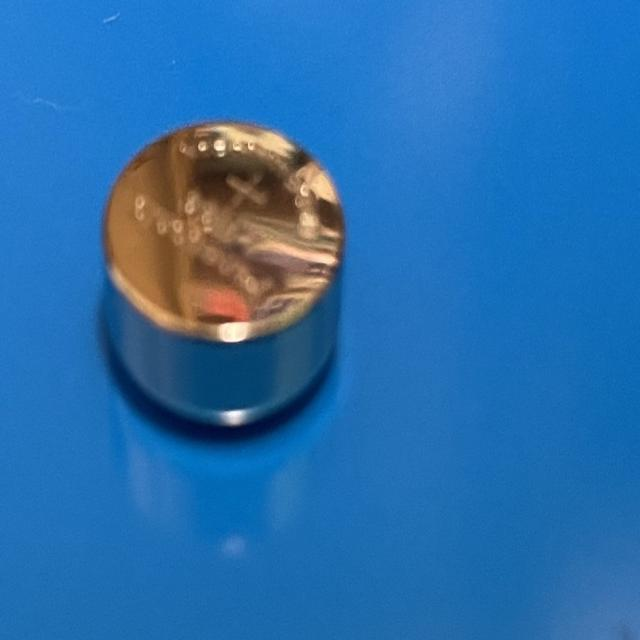COIN: (96, 115, 350, 438)
